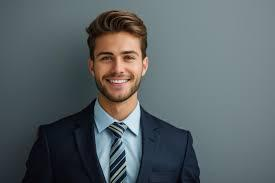person: (84, 6, 155, 105)
